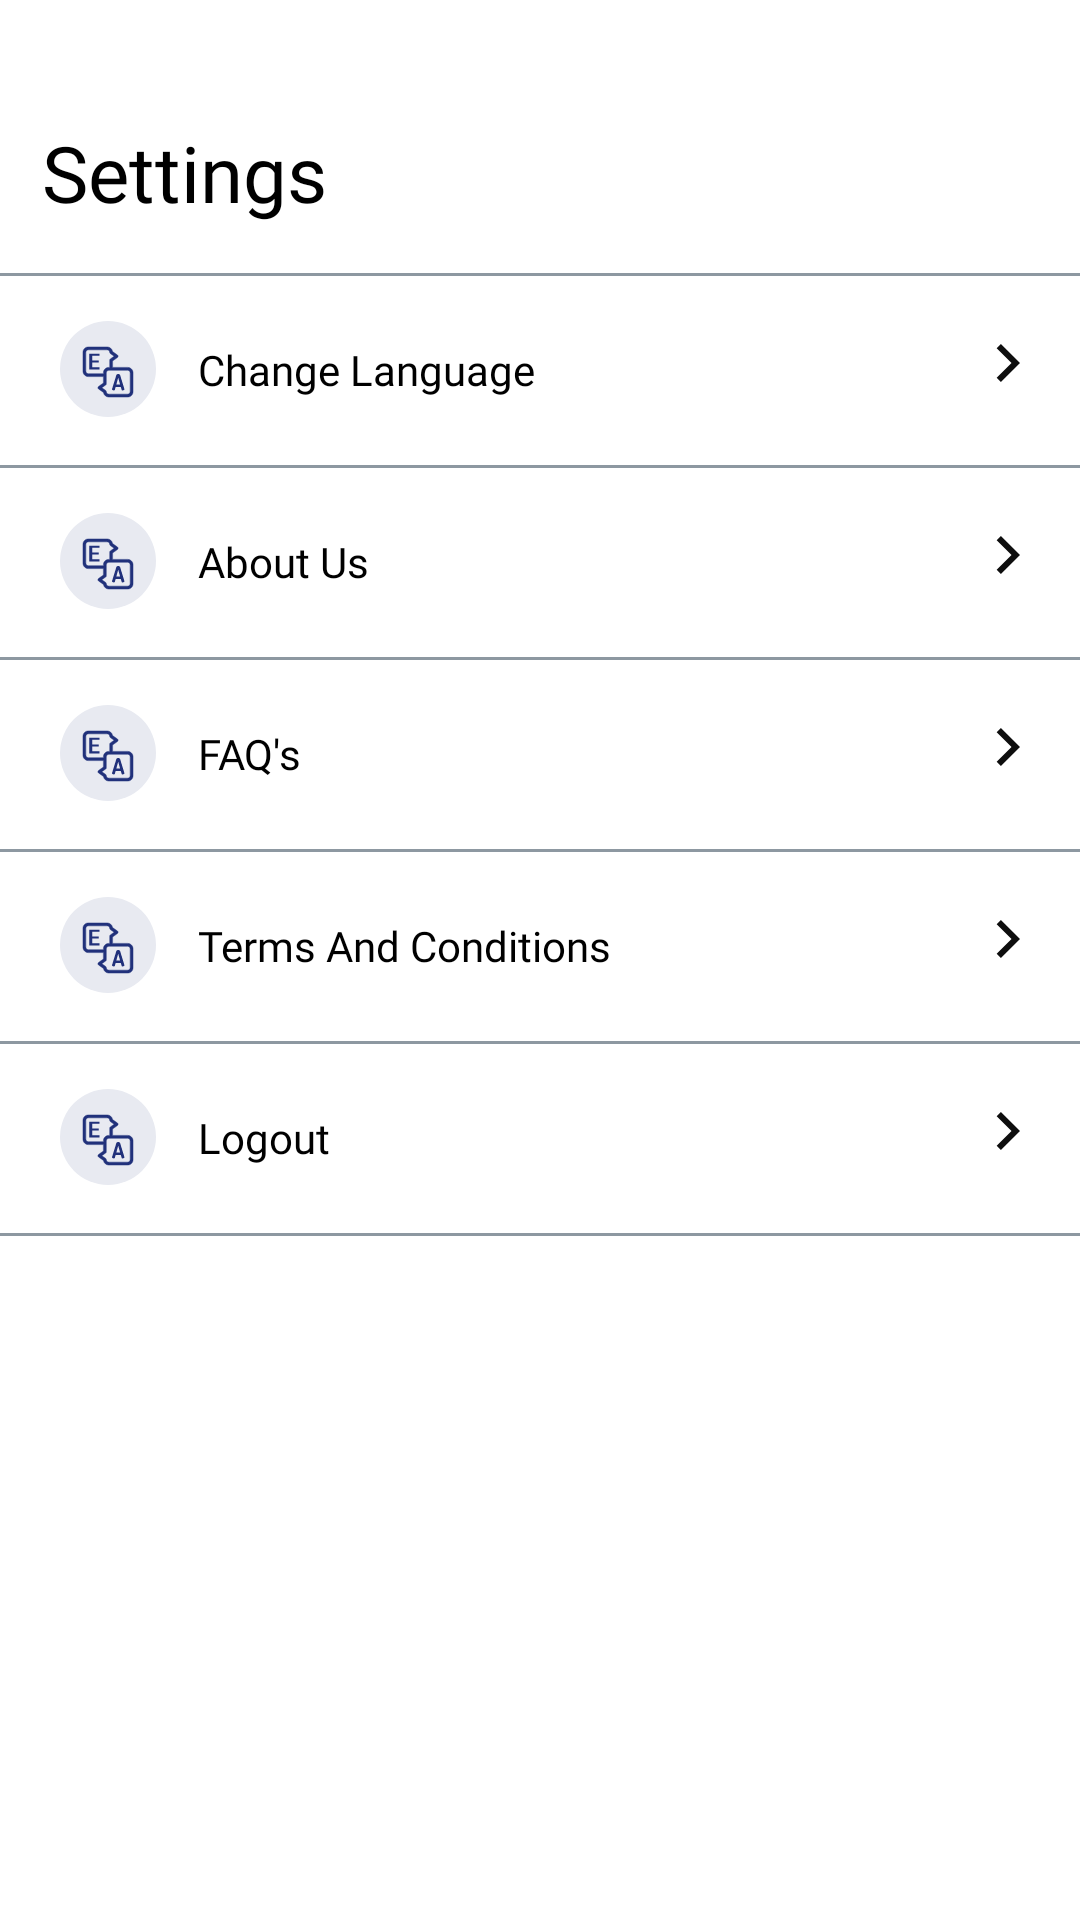

Screen size 1080*1920. Icon name, then its box in pixels as box=[x1, y1, x2, y2]:
arrow: box=[996, 344, 1020, 382], box=[996, 536, 1020, 574], box=[996, 728, 1020, 766], box=[996, 920, 1020, 958], box=[996, 1112, 1020, 1150]
